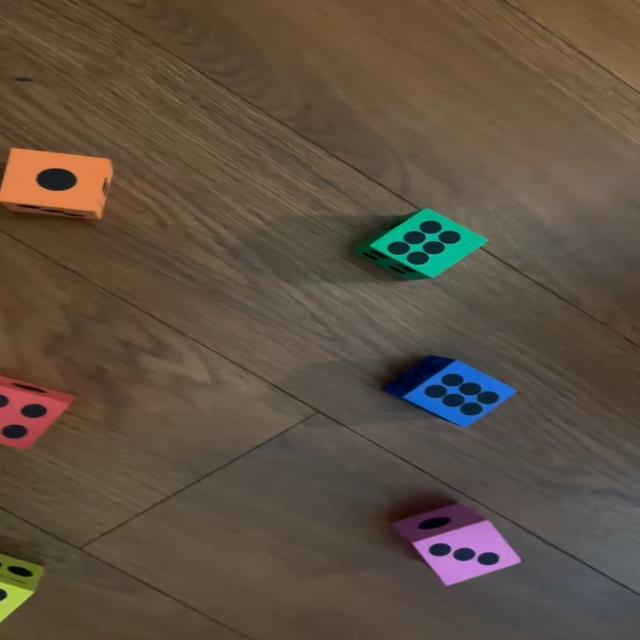blue_block: (386, 356, 520, 428)
red_block: (0, 374, 79, 452)
